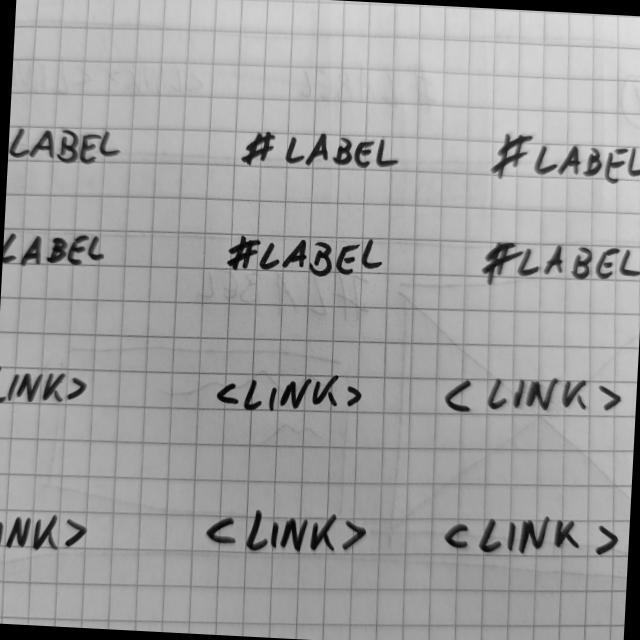label: (487, 126, 640, 193), (478, 233, 640, 296), (225, 226, 392, 286), (239, 125, 403, 181), (9, 116, 129, 176), (4, 220, 116, 276)
link: (440, 369, 628, 425), (203, 503, 371, 564), (441, 511, 624, 567), (214, 363, 368, 424), (1, 499, 93, 556), (1, 361, 94, 414)
